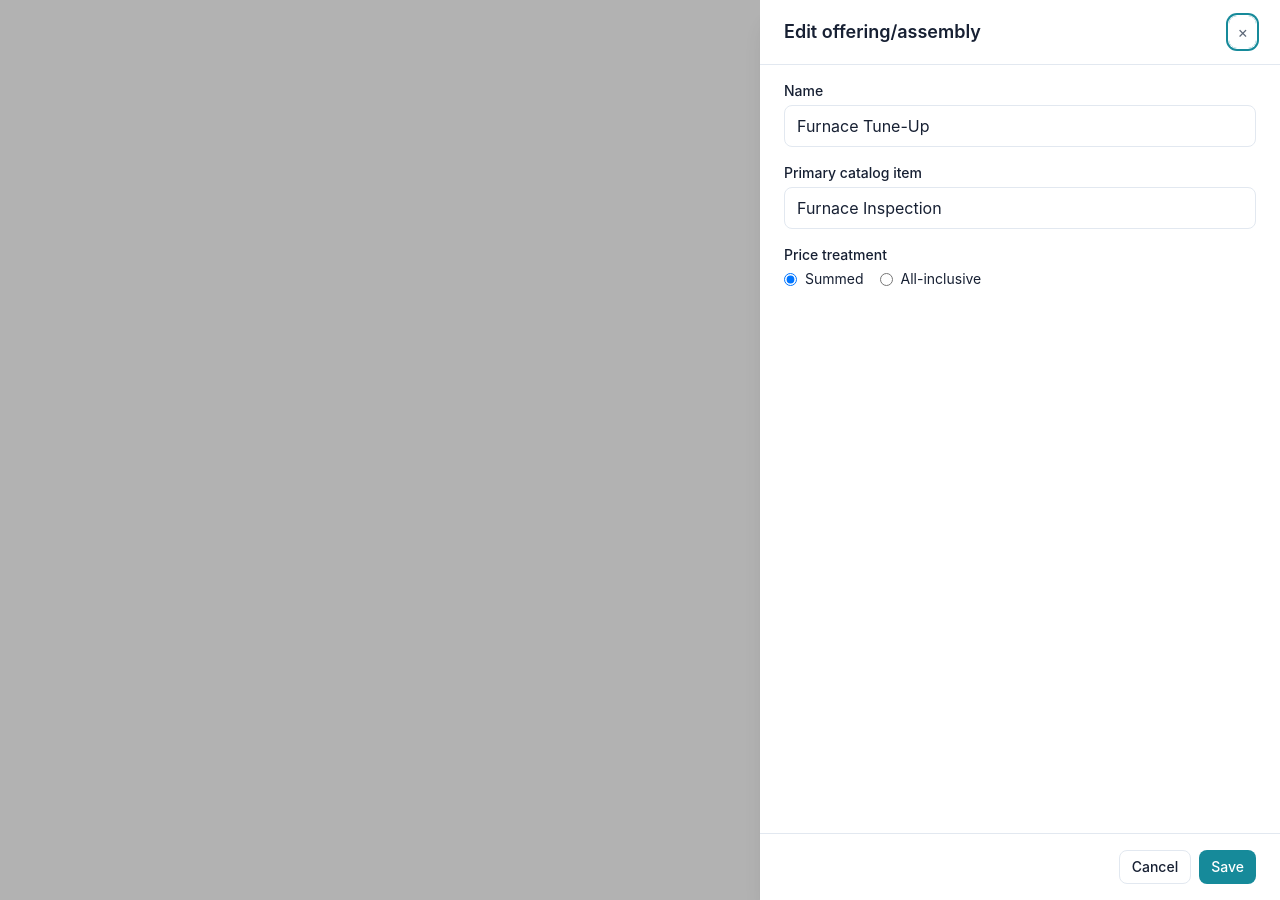
Test: OfferingAssemblyHeaderEditDrawer › blocks Save and reports a missing name from client validation
Clear the field labelled "Name" at (1020, 126), box [784,105,1256,147]
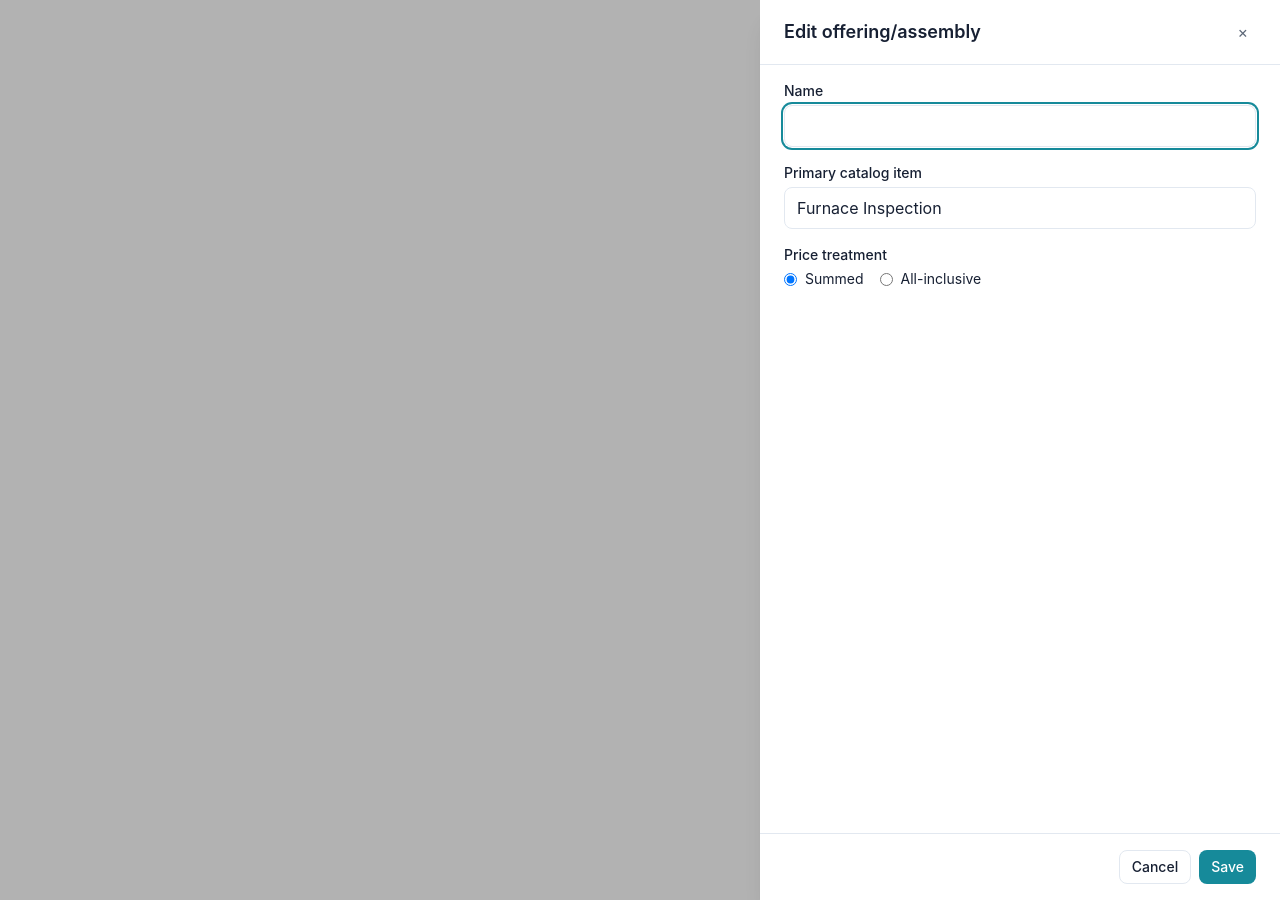
Click the button "Save".
click(1228, 867)  # box [1199,850,1256,884]
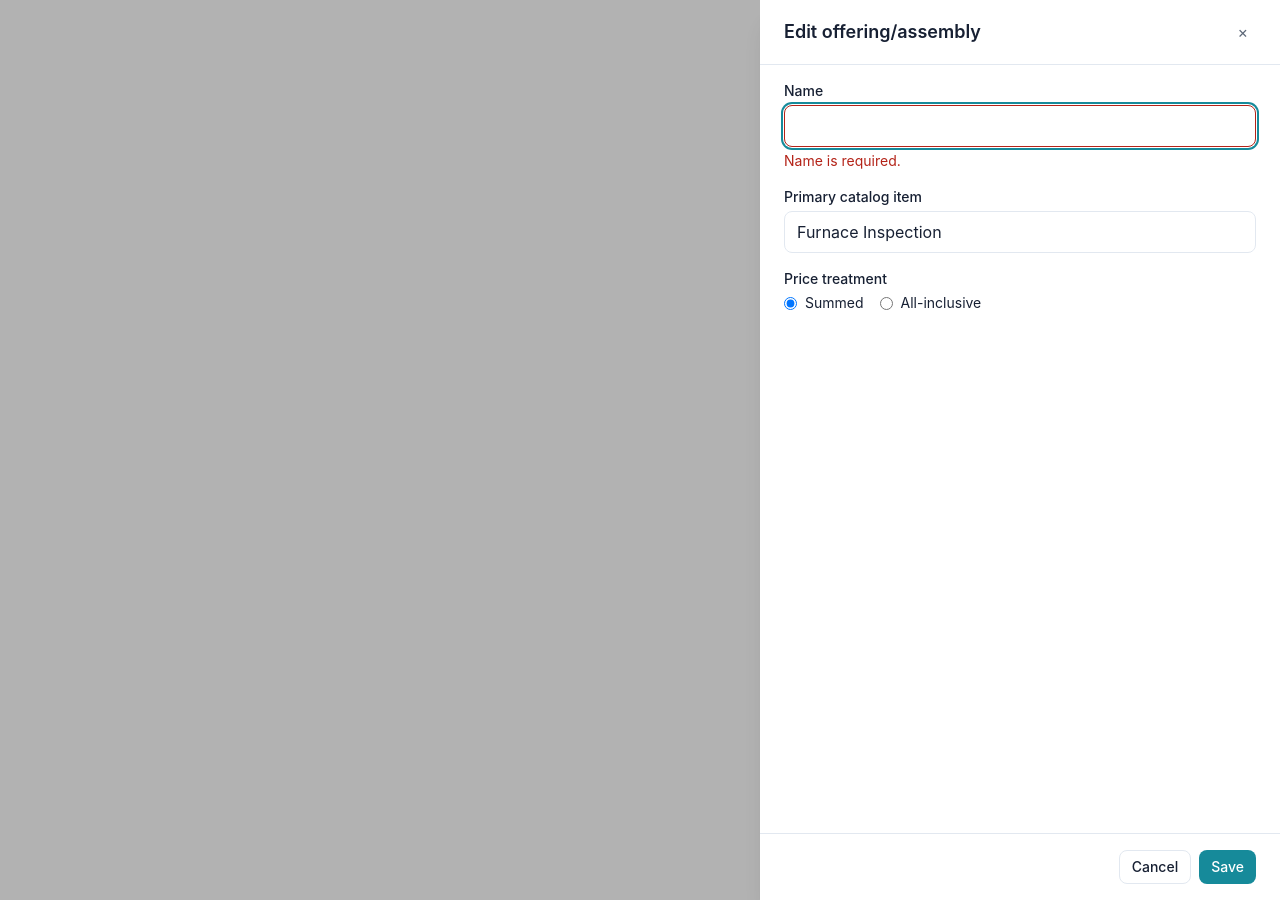
Result: the text "Name is required." is shown at [784,152,901,169]
